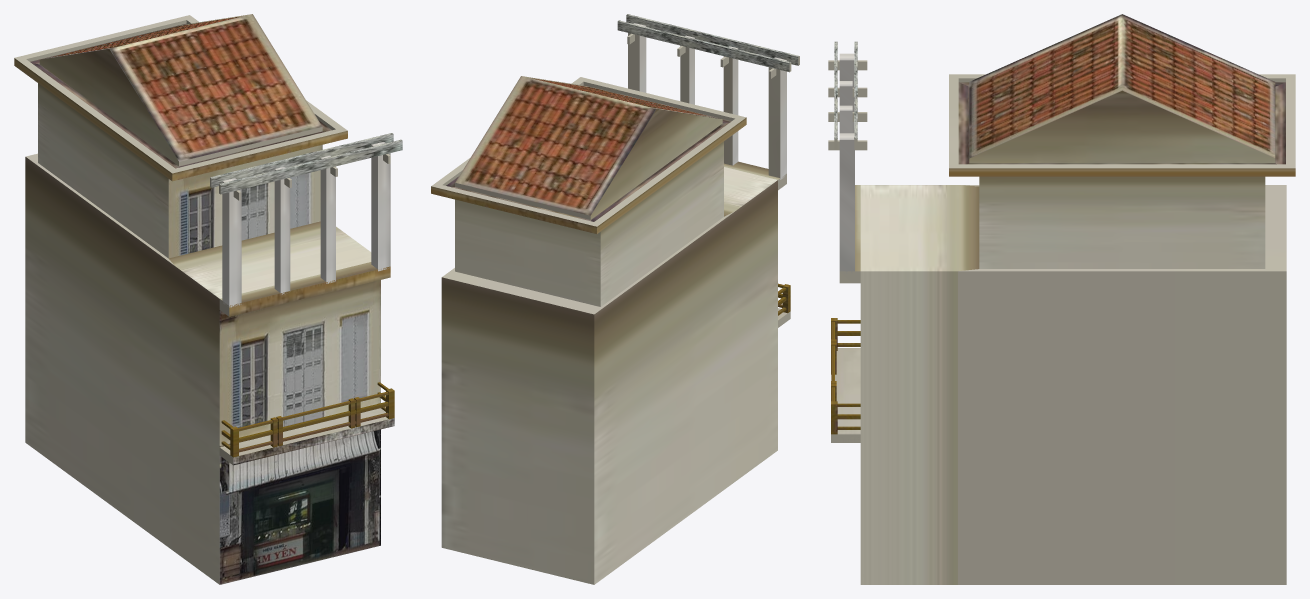
3 views of the same model, side by side, from view 1: azimuth 30°, elevation 25°; view 2: azimuth 150°, elevation 25°; view 3: azimuth 270°, elevation 25° (orthographic). The views are drawn at different scales.
Visible parts, largest first — view 1: 5cda3c6b28a55ef7c0301e24.001; view 2: 5cda3c6b28a55ef7c0301e24.001; view 3: 5cda3c6b28a55ef7c0301e24.001.
Boxes of the visible parts, x1,y1,x2,y2 form: 5cda3c6b28a55ef7c0301e24.001: (14,14,402,584); 5cda3c6b28a55ef7c0301e24.001: (431,14,799,584); 5cda3c6b28a55ef7c0301e24.001: (828,14,1295,584).
Size of the model in its own units: 4.85 by 11.36 by 9.83.
Materials: 1 (1 with a texture image).
